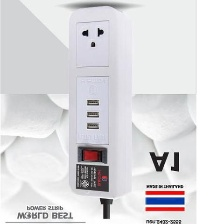three_eye_plug: (64, 3, 133, 202)
